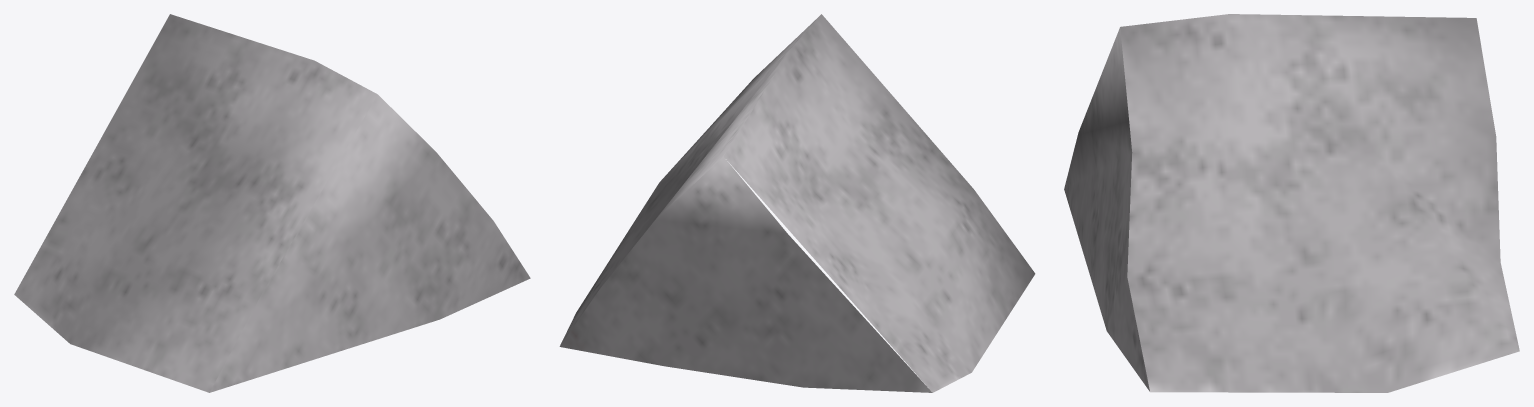
Rendered from ob-bigstone02_lod_01.glb.
3 renders of one model, left to right at view 1: azimuth 30°, elevation 25°; view 2: azimuth 150°, elevation 25°; view 3: azimuth 270°, elevation 25°, orthographic. The views are drawn at different scales.
Parts seen in each view (by area): view 1: Box01; view 2: Box01; view 3: Box01.
Boxes of the visible parts, x1=… form: Box01: x1=14, y1=14, x2=530, y2=392; Box01: x1=559, y1=14, x2=1035, y2=392; Box01: x1=1064, y1=14, x2=1519, y2=392.
Bounding box in the file's own units: 4.5 × 2.7 × 3.79.
Materials: 1 (1 with a texture image).
